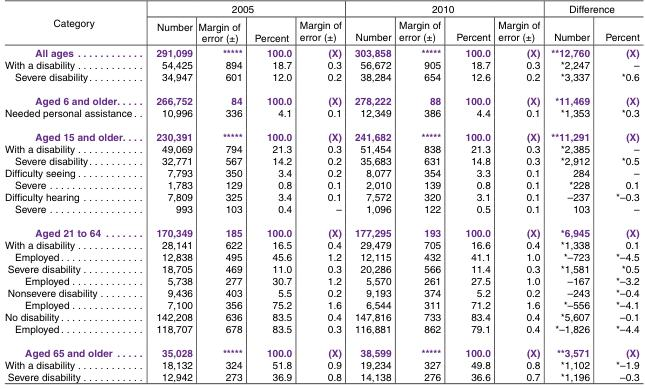table: (3, 4, 638, 382)
table column: (3, 4, 143, 382), (194, 4, 247, 382), (294, 4, 347, 382), (394, 4, 447, 382), (544, 4, 596, 382), (143, 4, 194, 382), (493, 4, 544, 382), (247, 4, 294, 382), (347, 4, 394, 382), (447, 4, 493, 382), (596, 4, 638, 382)
table column header: (3, 4, 638, 46)
table row: (3, 17, 638, 46), (3, 71, 638, 89), (3, 89, 638, 107), (3, 107, 638, 125), (3, 125, 638, 143), (3, 203, 638, 221), (3, 221, 638, 239), (3, 323, 638, 341), (3, 341, 638, 359), (3, 4, 638, 17), (3, 46, 638, 59), (3, 59, 638, 71), (3, 143, 638, 155), (3, 155, 638, 167), (3, 167, 638, 179), (3, 179, 638, 191), (3, 191, 638, 203), (3, 239, 638, 251), (3, 251, 638, 263), (3, 263, 638, 275), (3, 275, 638, 287), (3, 287, 638, 299), (3, 299, 638, 311), (3, 311, 638, 323), (3, 359, 638, 371), (3, 371, 638, 382)
table spanning cell: (3, 4, 143, 46), (143, 4, 347, 17), (347, 4, 544, 17), (544, 4, 638, 17)
